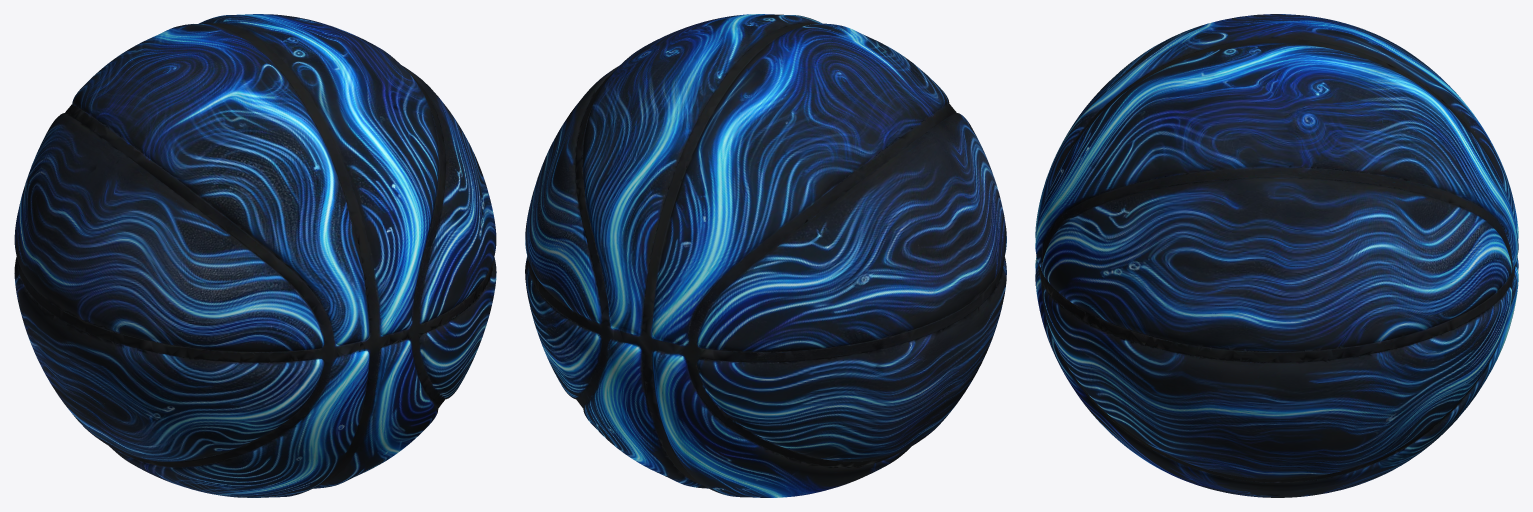
The model's file is palla_blu_compressed.glb.
3 views of the same model, side by side, from view 1: azimuth 30°, elevation 25°; view 2: azimuth 150°, elevation 25°; view 3: azimuth 270°, elevation 25° (orthographic).
Parts seen in each view (by area): view 1: node_0; view 2: node_0; view 3: node_0.
Boxes of the visible parts, x1,y1,x2,y2 form: node_0: [14, 14, 496, 497]; node_0: [525, 14, 1006, 497]; node_0: [1035, 14, 1518, 497].
Bounding box in the file's own units: 1.19 × 1.19 × 1.19.
1 material, 1 textured.
